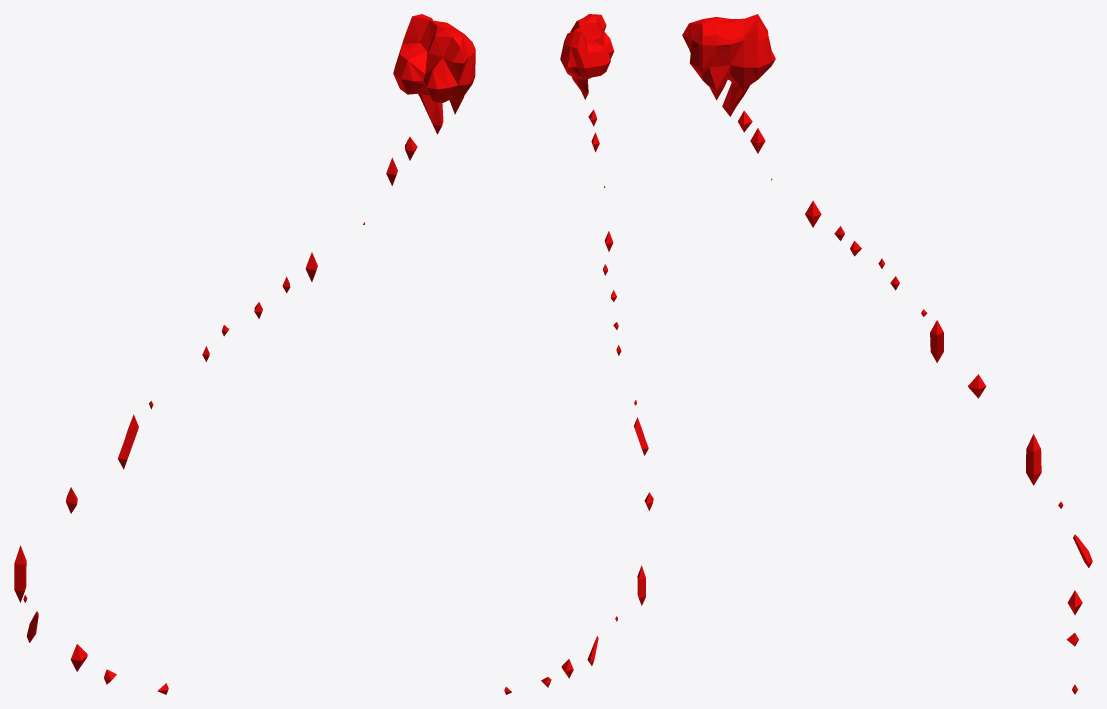
File: deaD_coarse.dae
3 views of the same model, side by side, from view 1: azimuth 30°, elevation 25°; view 2: azimuth 150°, elevation 25°; view 3: azimuth 270°, elevation 25° (orthographic). The views are drawn at different scales.
Visible parts, largest first — view 1: deaD; view 2: deaD; view 3: deaD.
Boxes of the visible parts, <box> form: deaD: <box>14,14,475,694</box>; deaD: <box>504,14,653,694</box>; deaD: <box>682,14,1092,694</box>.
Size of the model in its own units: 223 by 605 by 316.
